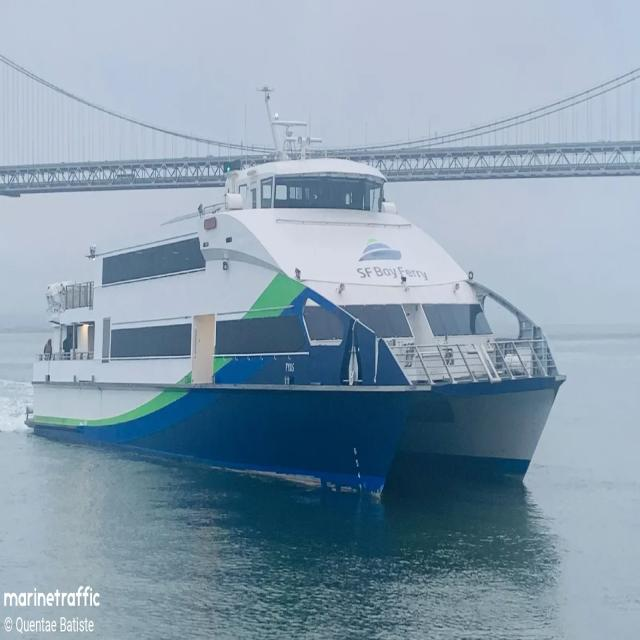Passenger: (28, 87, 565, 496)
